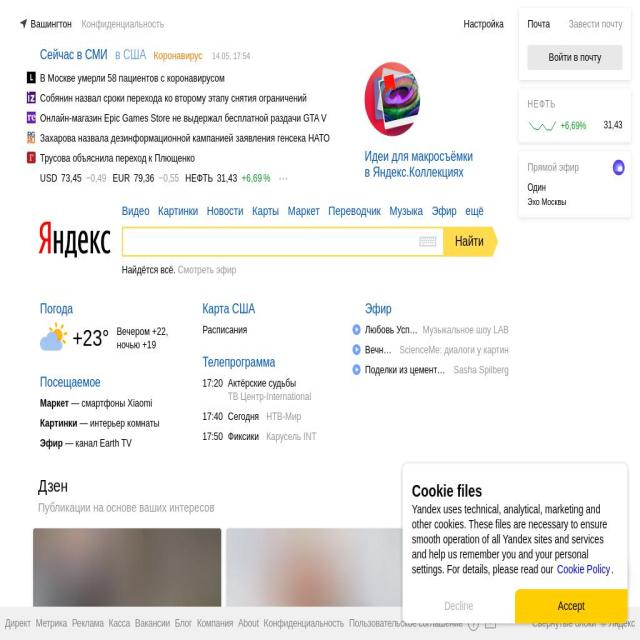button: (31, 197, 119, 281), (364, 62, 440, 140), (403, 589, 515, 623), (515, 589, 627, 623), (364, 148, 474, 180), (482, 482, 602, 511), (82, 6, 165, 42), (542, 557, 627, 590), (528, 45, 622, 70), (19, 6, 82, 42), (26, 152, 195, 165), (40, 324, 109, 354), (443, 226, 498, 258), (349, 617, 463, 630), (365, 363, 454, 378), (264, 617, 344, 630), (556, 561, 612, 577), (365, 323, 423, 338), (328, 204, 381, 218), (569, 18, 623, 30), (158, 204, 199, 218), (207, 204, 244, 218), (365, 343, 399, 358), (389, 204, 424, 218), (197, 617, 234, 630), (464, 18, 504, 30), (135, 617, 171, 630), (288, 204, 320, 218), (36, 617, 68, 630), (72, 617, 104, 630), (122, 204, 149, 218), (252, 204, 279, 218), (431, 204, 457, 218), (5, 617, 31, 630), (238, 617, 260, 630), (109, 617, 130, 630), (465, 204, 484, 218), (528, 18, 550, 30), (174, 617, 192, 630)
field: (122, 226, 443, 258)
heading: (364, 149, 474, 163), (364, 165, 464, 179), (203, 355, 275, 370), (40, 48, 108, 62), (40, 375, 101, 390), (38, 476, 68, 496), (40, 302, 73, 316), (115, 48, 147, 62), (202, 302, 232, 316), (365, 302, 391, 316), (232, 302, 256, 316)
image: (31, 197, 119, 281), (40, 317, 184, 358), (364, 62, 440, 136), (365, 323, 509, 337), (365, 343, 509, 357), (365, 363, 509, 377), (419, 226, 436, 258), (528, 119, 558, 133), (308, 609, 326, 632), (547, 562, 565, 585), (612, 158, 626, 178), (19, 17, 29, 30)
link: (400, 343, 510, 358), (422, 323, 510, 338), (228, 390, 312, 403), (81, 397, 153, 410), (90, 417, 160, 430), (228, 377, 296, 390), (453, 363, 509, 378), (75, 437, 132, 450), (116, 324, 166, 338), (153, 49, 203, 62), (266, 430, 316, 443), (202, 323, 247, 337), (116, 337, 156, 351), (40, 417, 78, 430), (266, 410, 302, 423), (228, 410, 258, 423), (228, 430, 258, 443), (40, 397, 69, 410), (185, 172, 213, 184), (40, 437, 63, 450), (40, 172, 58, 184), (112, 172, 130, 184)
text: (412, 502, 607, 576), (412, 480, 618, 502), (40, 132, 330, 144), (40, 112, 326, 124), (38, 498, 214, 517), (40, 92, 307, 104), (40, 72, 225, 84), (40, 152, 195, 165), (443, 226, 493, 258), (30, 6, 72, 42), (532, 613, 597, 634), (365, 363, 449, 378), (508, 483, 596, 497), (508, 496, 596, 510), (72, 324, 110, 354), (528, 182, 622, 194), (528, 98, 608, 111), (564, 565, 622, 582), (528, 161, 608, 173), (365, 323, 417, 338), (122, 263, 177, 277), (600, 613, 635, 634), (549, 51, 602, 63), (203, 377, 223, 404), (178, 263, 215, 277), (464, 18, 504, 30), (365, 343, 394, 358), (528, 196, 566, 207), (214, 263, 237, 277), (561, 120, 586, 132), (603, 119, 623, 133), (203, 410, 223, 424), (203, 430, 223, 444), (216, 172, 238, 184), (61, 172, 81, 184), (134, 172, 154, 184), (242, 172, 262, 184), (221, 51, 233, 61), (212, 51, 222, 61), (262, 172, 270, 184), (232, 51, 240, 61), (242, 51, 250, 61), (166, 324, 168, 338), (612, 562, 614, 576)
